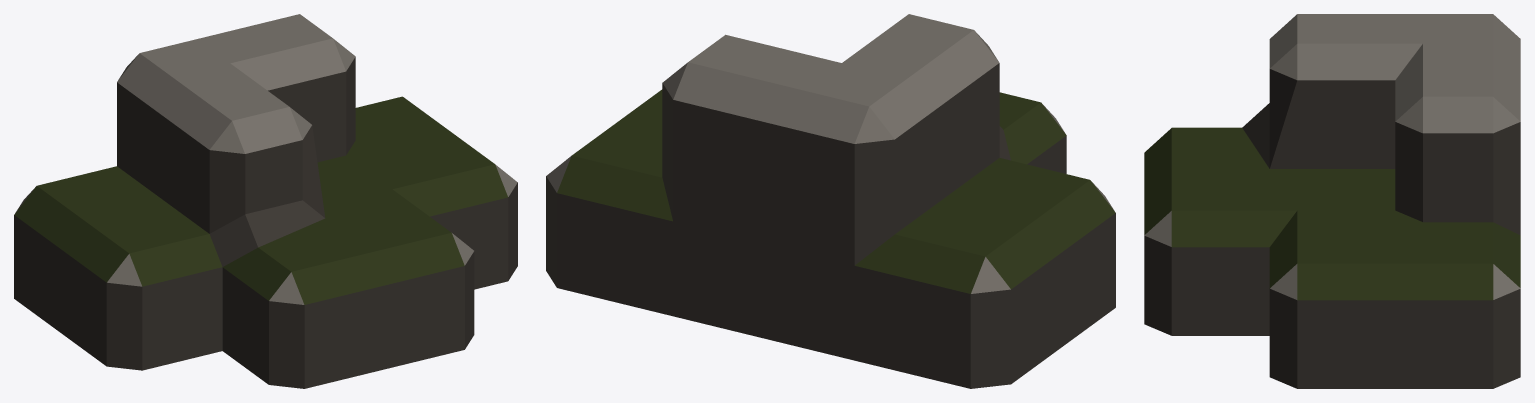
The picture shows the model from 3 angles, left to right: view 1: azimuth 30°, elevation 25°; view 2: azimuth 150°, elevation 25°; view 3: azimuth 270°, elevation 25°; orthographic projection. The views are drawn at different scales.
Visible parts, largest first — view 1: stone_debris_flat_patch; view 2: stone_debris_flat_patch; view 3: stone_debris_flat_patch.
Part boxes in pixels (left/top/right/bottom): stone_debris_flat_patch: left=14, top=14, right=517, bottom=388; stone_debris_flat_patch: left=546, top=14, right=1115, bottom=388; stone_debris_flat_patch: left=1144, top=14, right=1520, bottom=388.
Size of the model in its own units: 0.4 by 0.2 by 0.3.
Materials: 1 (1 with a texture image).
